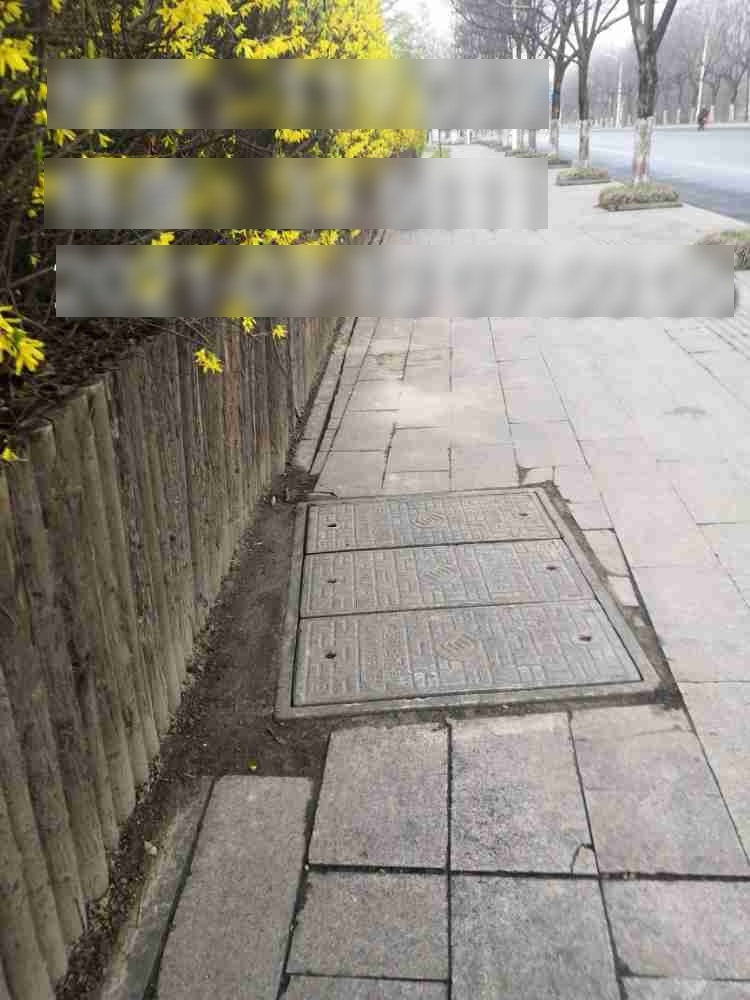good: (278, 485, 669, 718)
